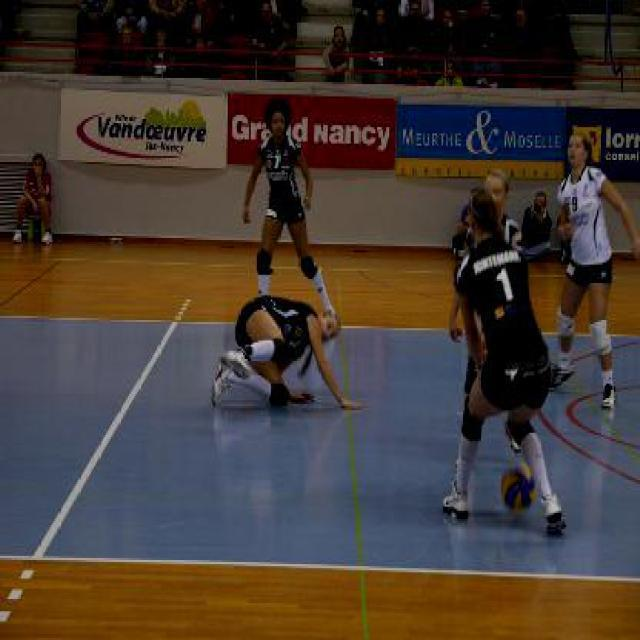volleyball: (501, 465, 538, 509)
